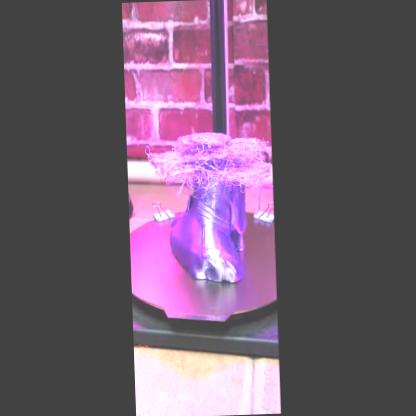fail: (147, 135, 271, 200)
